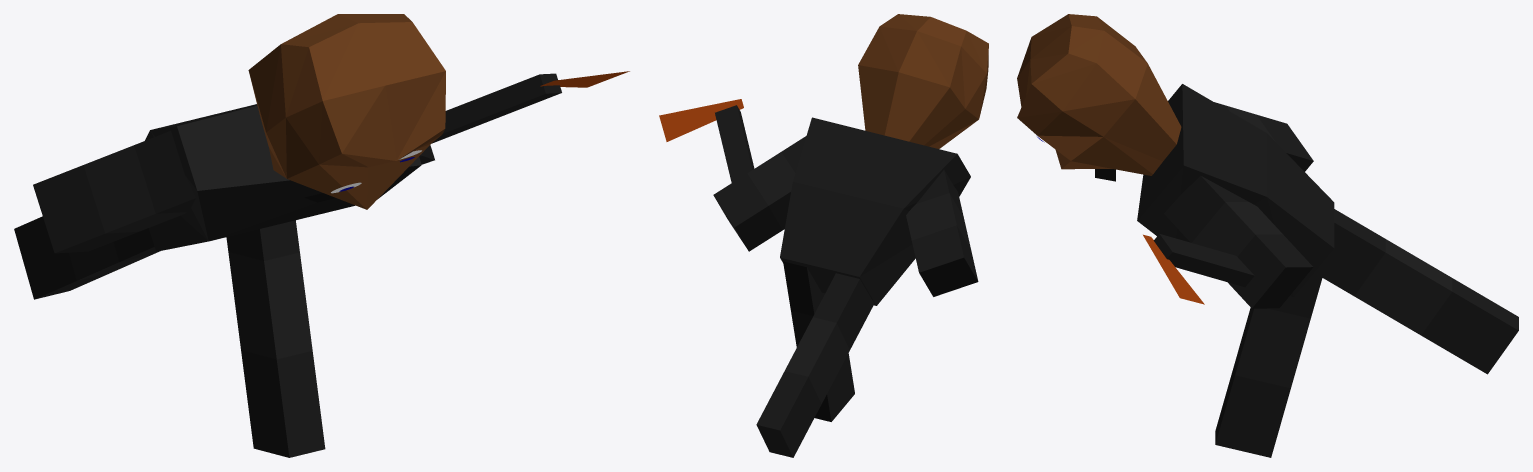
Rendered from axeman2d.obj.
The picture shows the model from 3 angles, left to right: view 1: azimuth 30°, elevation 25°; view 2: azimuth 150°, elevation 25°; view 3: azimuth 270°, elevation 25°; orthographic projection. The views are drawn at different scales.
Parts seen in each view (by area): view 1: Cube, Cube.005, Cube.001, Cube.003, Cube.004, Cube.007, Plane.001; view 2: Cube.001, Cube, Cube.004, Cube.003, Cube.002, Cube.005, Cube.007, Plane.001; view 3: Cube, Cube.001, Cube.004, Cube.005, Cube.002, Cube.007, Cube.003, Plane.001.
Part boxes in pixels (x1=…): Cube: x1=248, y1=14, x2=445, y2=209; Cube.005: x1=226, y1=220, x2=325, y2=457; Cube.001: x1=145, y1=104, x2=421, y2=251; Cube.003: x1=33, y1=131, x2=195, y2=253; Cube.004: x1=14, y1=216, x2=160, y2=299; Cube.007: x1=432, y1=73, x2=561, y2=143; Plane.001: x1=540, y1=71, x2=629, y2=87; Cube.001: x1=780, y1=117, x2=970, y2=305; Cube: x1=858, y1=14, x2=988, y2=148; Cube.004: x1=756, y1=273, x2=874, y2=457; Cube.003: x1=906, y1=170, x2=978, y2=296; Cube.002: x1=713, y1=136, x2=806, y2=251; Cube.005: x1=783, y1=261, x2=854, y2=421; Cube.007: x1=715, y1=105, x2=754, y2=182; Plane.001: x1=659, y1=99, x2=743, y2=141; Cube: x1=1017, y1=14, x2=1181, y2=175; Cube.001: x1=1137, y1=84, x2=1334, y2=297; Cube.004: x1=1322, y1=209, x2=1518, y2=374; Cube.005: x1=1215, y1=255, x2=1328, y2=457; Cube.002: x1=1164, y1=176, x2=1312, y2=308; Cube.007: x1=1153, y1=233, x2=1254, y2=286; Cube.003: x1=1214, y1=102, x2=1313, y2=171; Plane.001: x1=1143, y1=234, x2=1204, y2=304.
Size of the model in its own units: 5.1 by 4.82 by 5.36.
